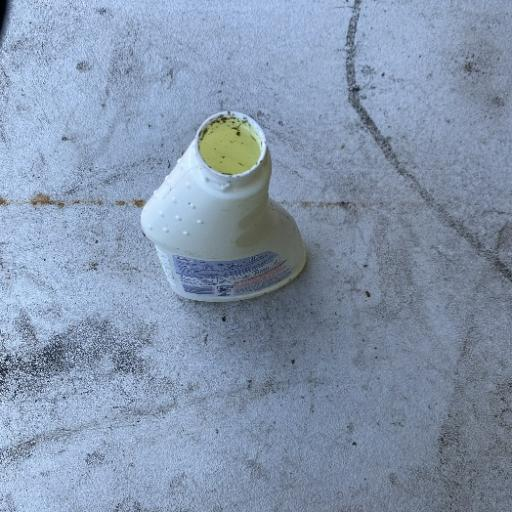Plastic: (138, 108, 308, 304)
